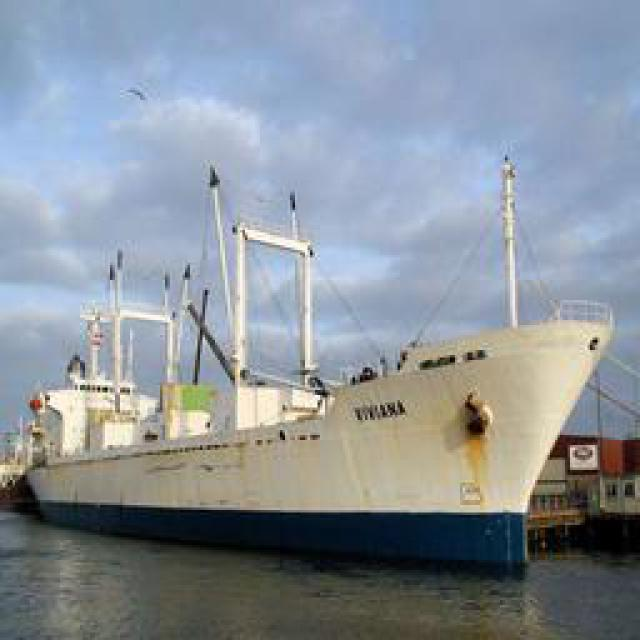Ship: (18, 151, 616, 561)
